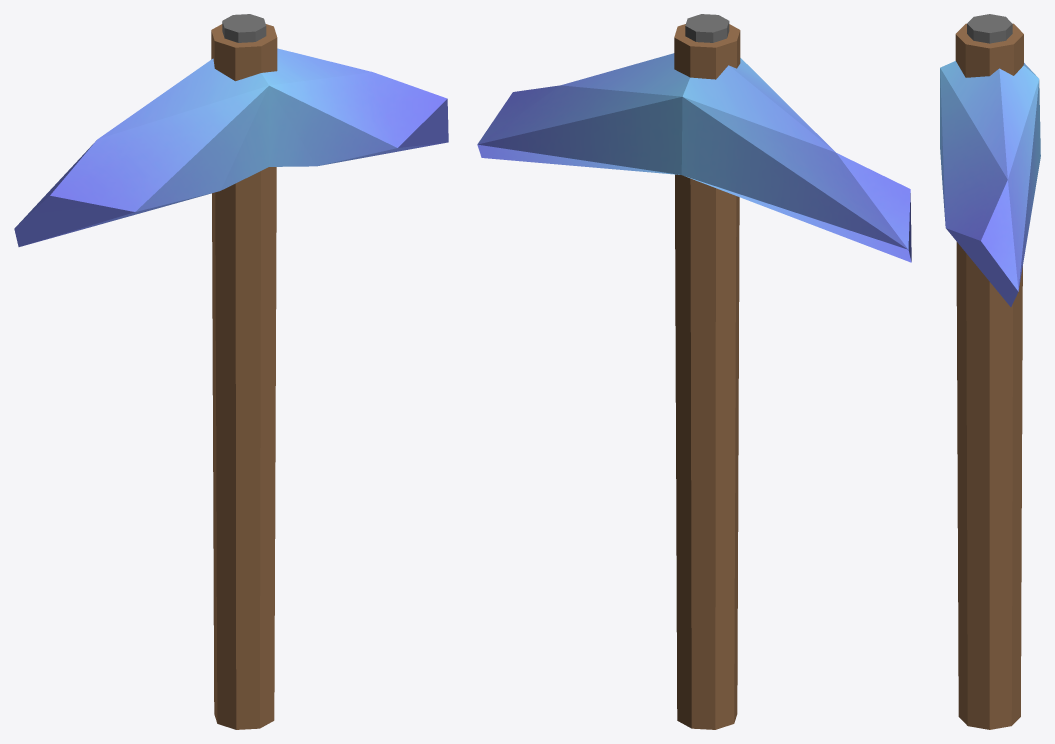
File: Pickaxe1.fbx
3 renders of one model, left to right at view 1: azimuth 30°, elevation 25°; view 2: azimuth 150°, elevation 25°; view 3: azimuth 270°, elevation 25°, orthographic.
Parts seen in each view (by area): view 1: Pickaxe1; view 2: Pickaxe1; view 3: Pickaxe1.
Part boxes in pixels (x1,y1,x2,y2): Pickaxe1: (14,14,448,729); Pickaxe1: (477,14,911,729); Pickaxe1: (940,14,1040,729).
Size of the model in its own units: 28.1 by 43.21 by 5.69.
